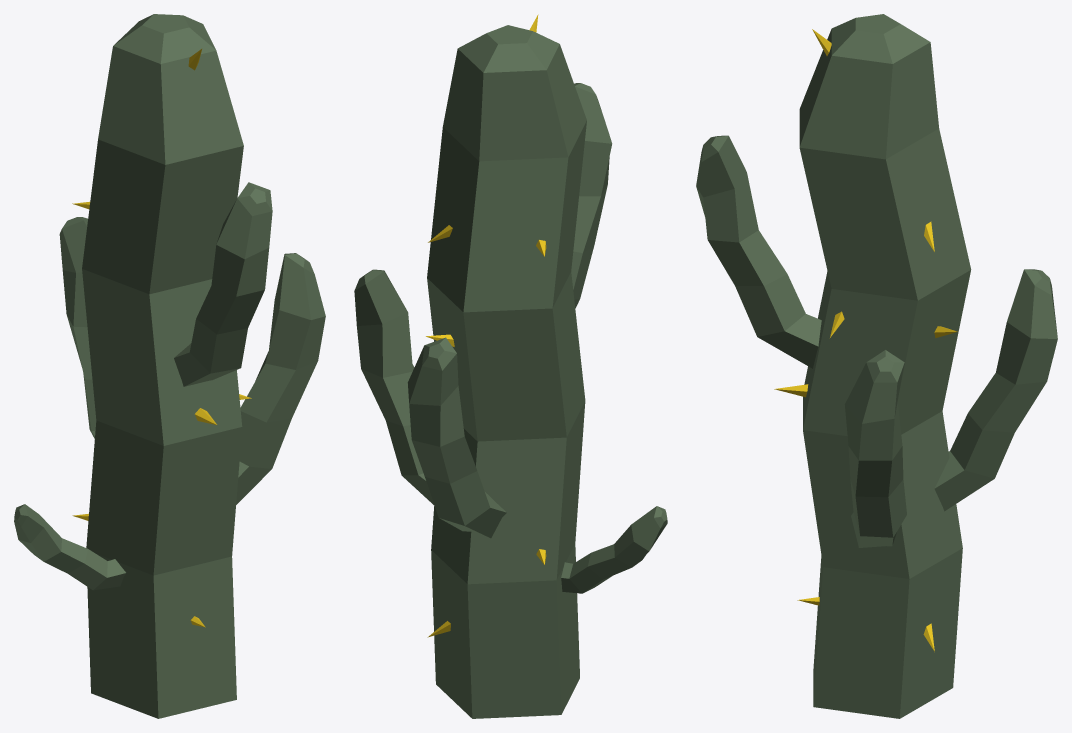
The model's file is Cactus.fbx.
The picture shows the model from 3 angles, left to right: view 1: azimuth 30°, elevation 25°; view 2: azimuth 150°, elevation 25°; view 3: azimuth 270°, elevation 25°; orthographic projection.
Parts seen in each view (by area): view 1: Cylinder, Cone; view 2: Cylinder, Cone; view 3: Cylinder, Cone.
Part boxes in pixels (left/top/right/bottom): Cylinder: left=14, top=14, right=325, bottom=718; Cone: left=72, top=49, right=251, bottom=627; Cylinder: left=354, top=25, right=667, bottom=718; Cone: left=426, top=14, right=546, bottom=637; Cylinder: left=696, top=14, right=1057, bottom=718; Cone: left=774, top=29, right=957, bottom=651.
Size of the model in its own units: 459 by 949 by 469.
